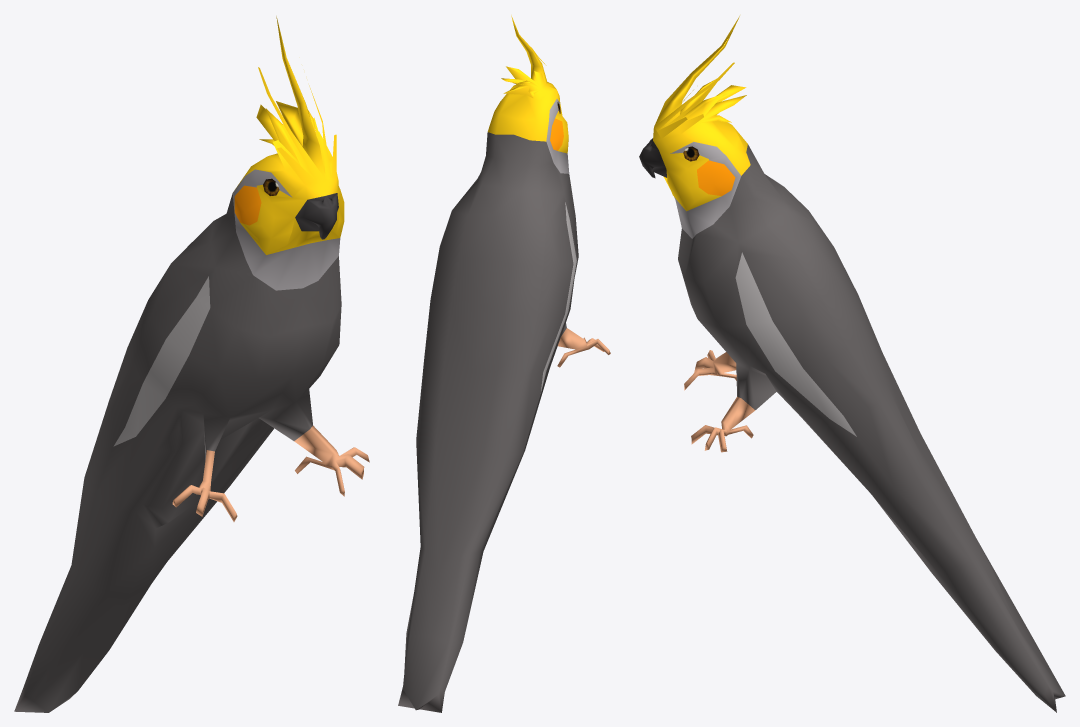
Rendered from Cockatiel.glb.
3 views of the same model, side by side, from view 1: azimuth 30°, elevation 25°; view 2: azimuth 150°, elevation 25°; view 3: azimuth 270°, elevation 25° (orthographic). The views are drawn at different scales.
Parts seen in each view (by area): view 1: Cockatiel; view 2: Cockatiel; view 3: Cockatiel.
Boxes of the visible parts, x1,y1,x2,y2 form: Cockatiel: [14, 16, 369, 712]; Cockatiel: [398, 15, 610, 712]; Cockatiel: [639, 16, 1065, 712].
Size of what is drawn, in the model's own units: 0.2309 by 0.8915 by 0.4846.
1 material, 1 textured.
